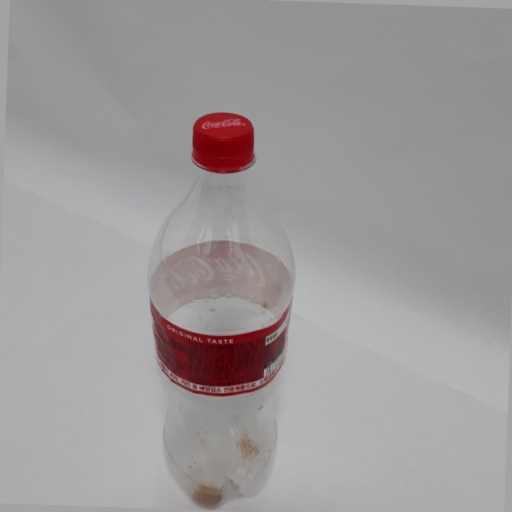Plastic_0: (141, 110, 301, 511)
